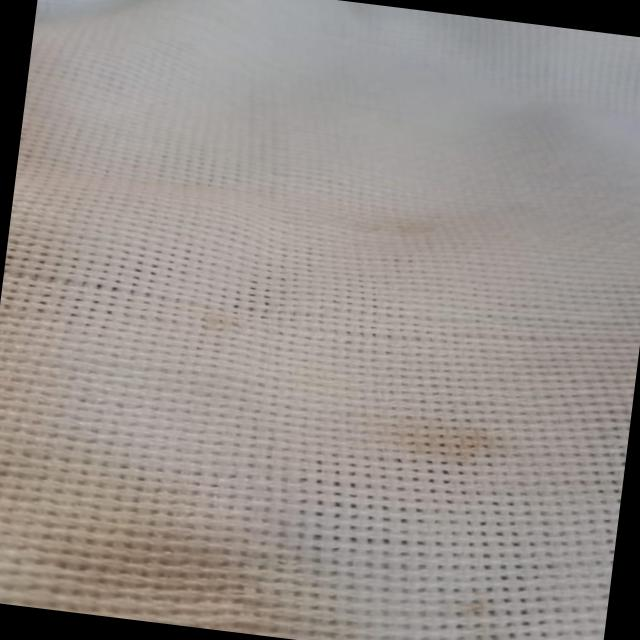stain: (396, 412, 514, 472), (364, 204, 456, 251), (452, 591, 529, 640)
